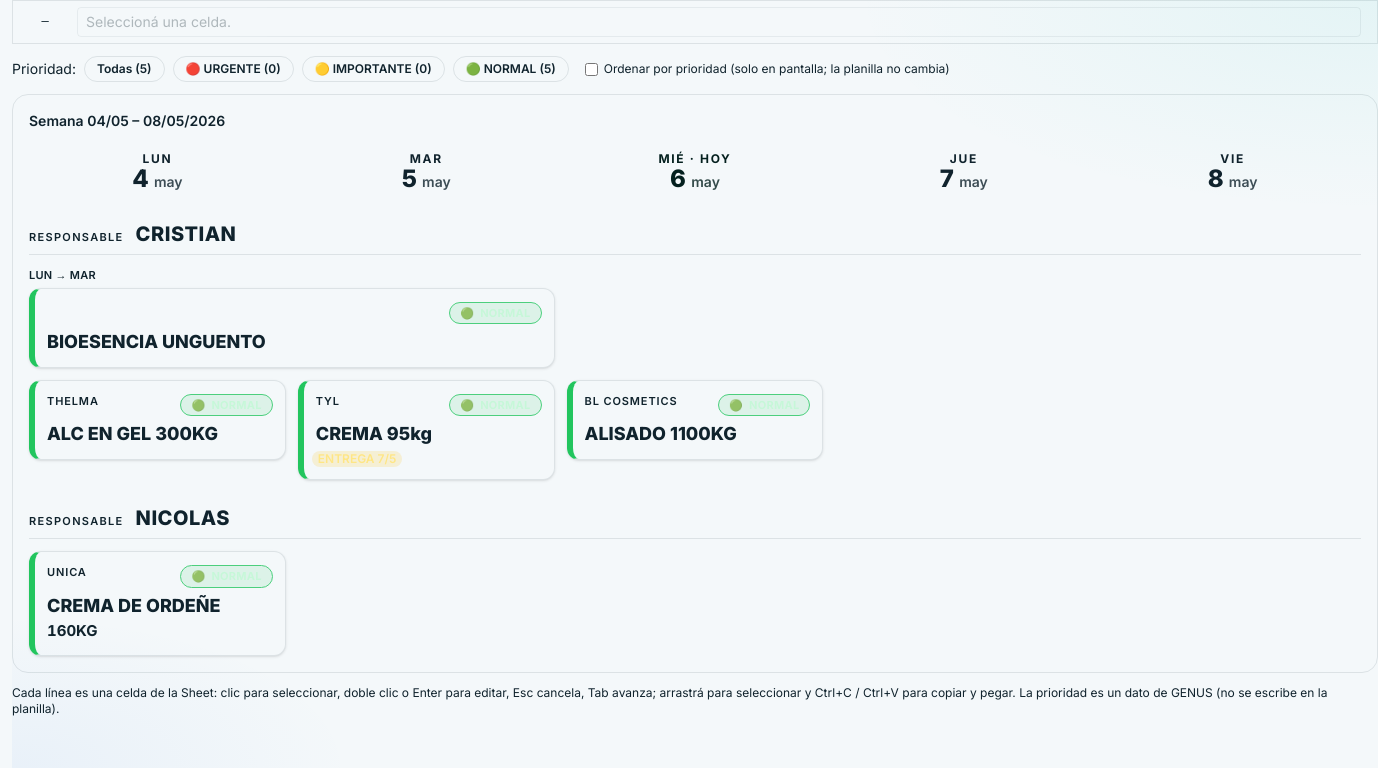
Test: Calendario operativo (tarjetas) › celdas protegidas: no entran en edición, se explica el motivo y nunca se guarda
The image size is (1378, 768).
Double-click the text "BL COSMETICS" at (631, 401), box x1=585 y1=394 x2=678 y2=408
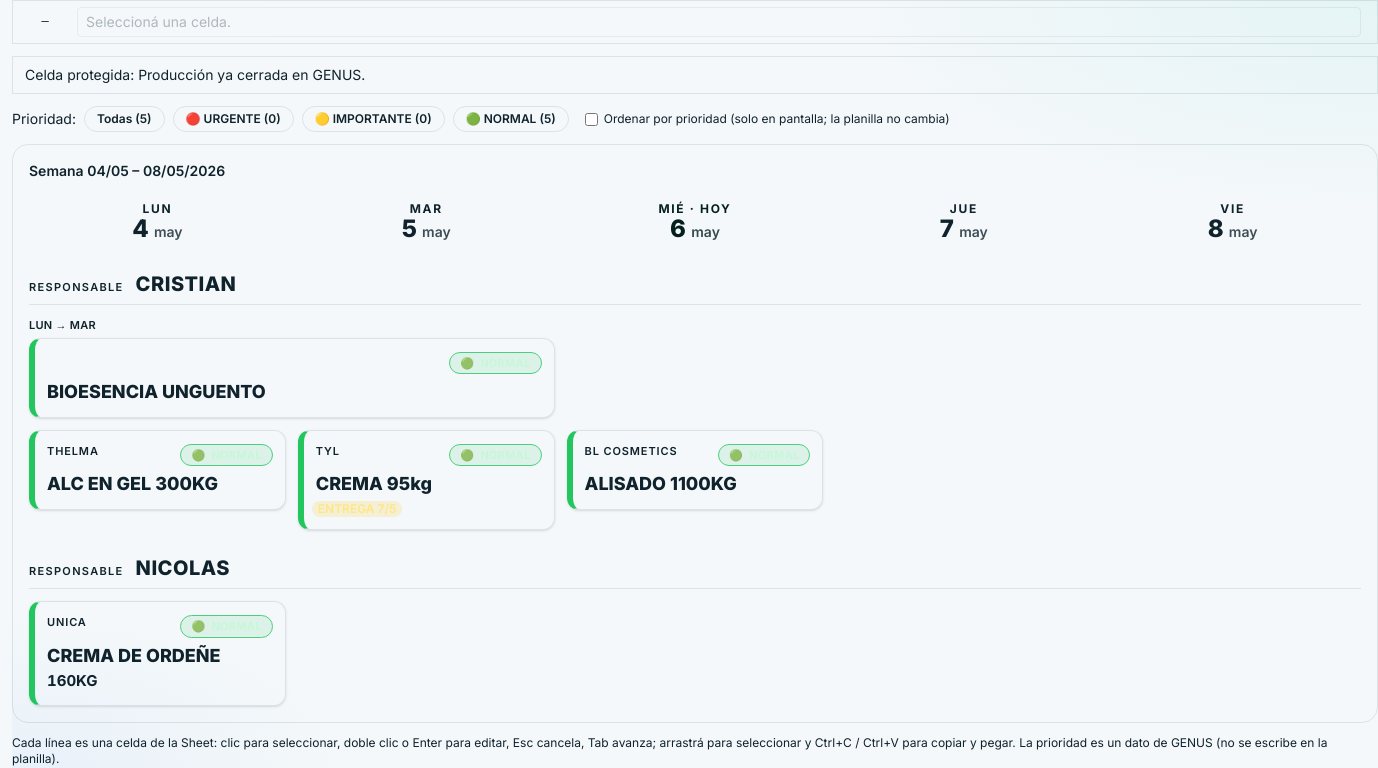
Result: the message with test id "semanas-cal-notice" shows "Producción ya cerrada en GENUS" at x1=25 y1=66 x2=365 y2=83
